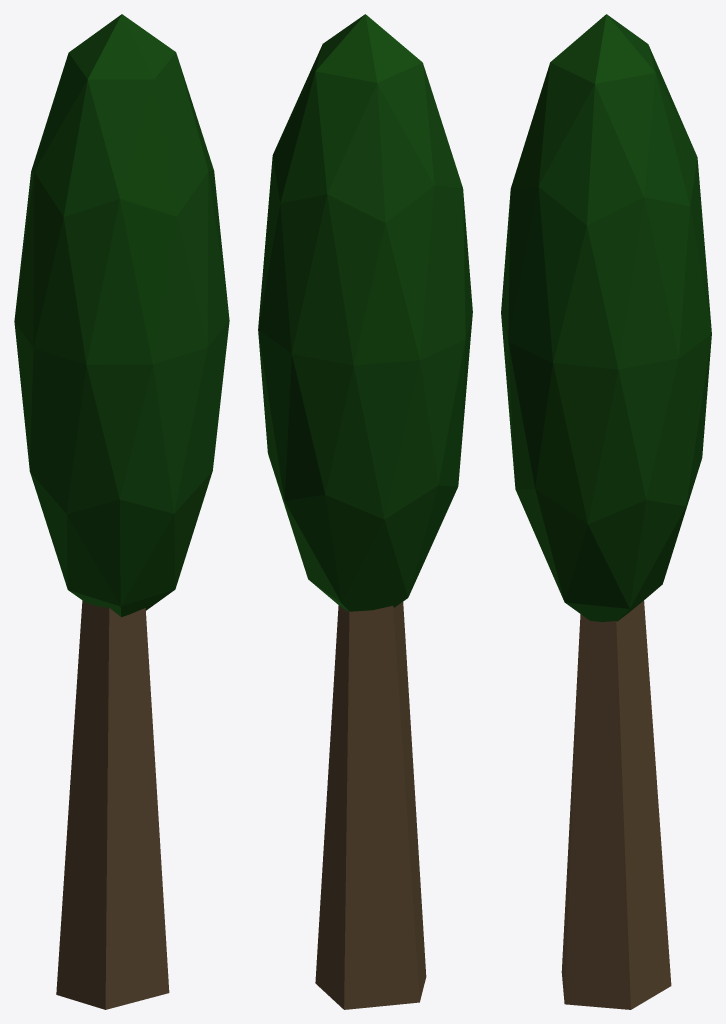
Rendered from Tree2.fbx.
3 renders of one model, left to right at view 1: azimuth 30°, elevation 25°; view 2: azimuth 150°, elevation 25°; view 3: azimuth 270°, elevation 25°, orthographic.
Parts seen in each view (by area): view 1: Cylinder.001; view 2: Cylinder.001; view 3: Cylinder.001.
Boxes of the visible parts, x1=… form: Cylinder.001: x1=14, y1=14, x2=229, y2=1009; Cylinder.001: x1=258, y1=14, x2=472, y2=1009; Cylinder.001: x1=501, y1=14, x2=711, y2=1009.
Size of the model in its own units: 48.92 by 240 by 47.05.
